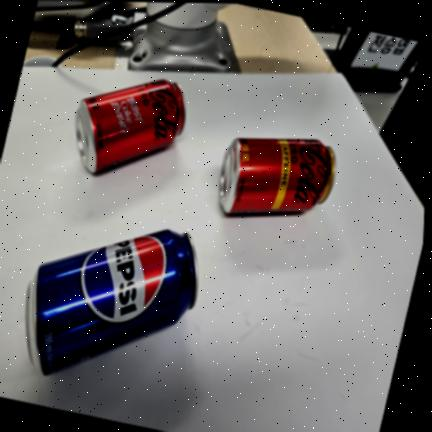can_coke_decaf: (219, 138, 336, 213)
can_coke_zero: (75, 80, 185, 173)
can_pepsi: (18, 230, 200, 375)
